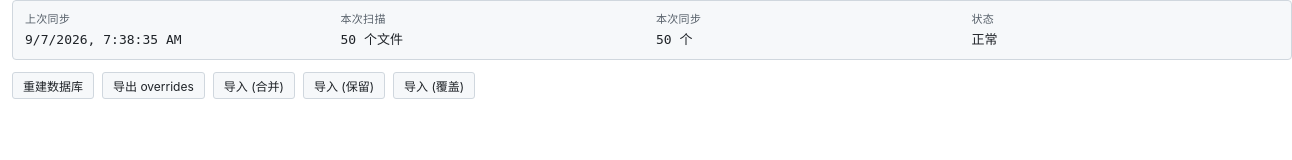
v0.8.10 DatabasePanel › rebuild 成功显示 hint '数据库已重建'
Click the button with test id "db-rebuild". click: (53, 86)
box: top-left (12, 72), bottom-right (94, 99)
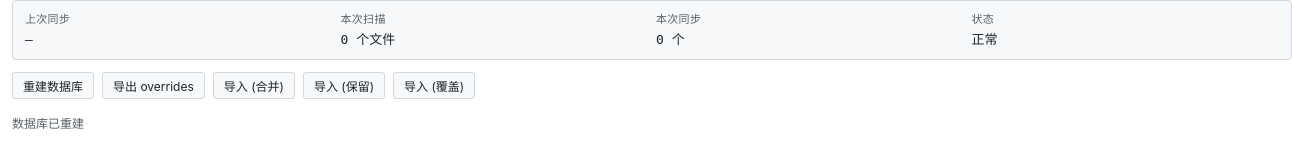
Expected: the text with test id "db-hint" reads "数据库已重建", top-left (12, 116), bottom-right (84, 131)
